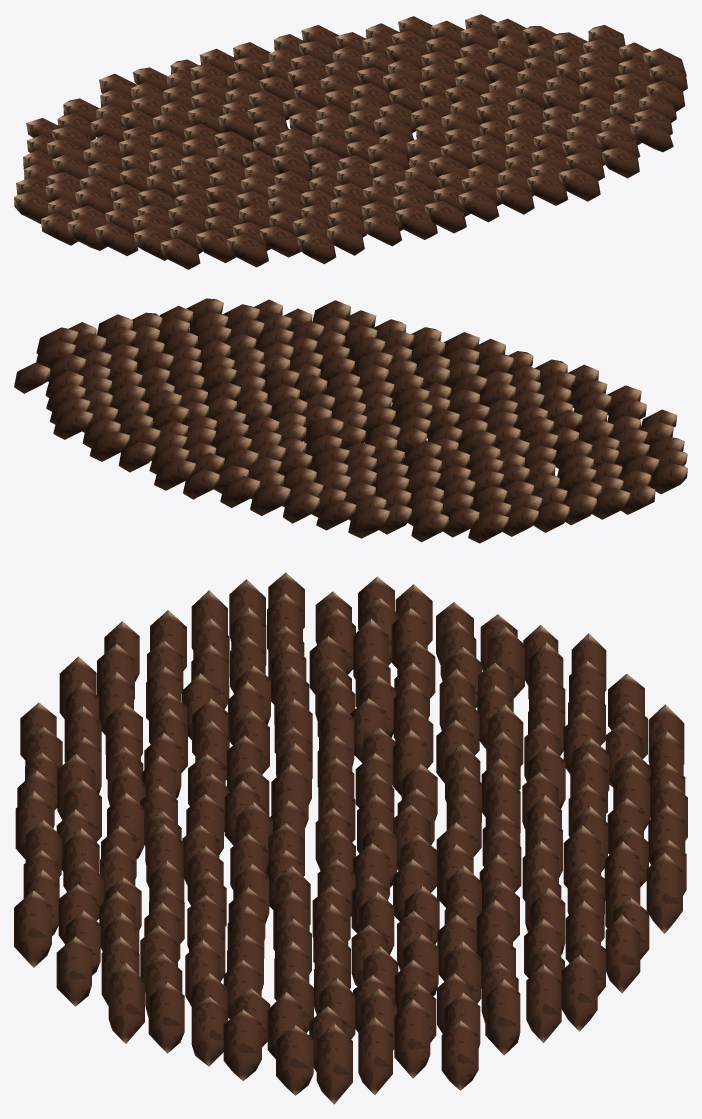
File: brood_clown_eggs_dark.glb
3 views of the same model, one above another, from view 1: azimuth 30°, elevation 25°; view 2: azimuth 150°, elevation 25°; view 3: azimuth 270°, elevation 25° (orthographic). The views are drawn at different scales.
Parts seen in each view (by area): view 1: Body; view 2: Body; view 3: Body.
Boxes of the visible parts, x1,y1,x2,y2 form: Body: (14,14,687,269); Body: (14,298,687,543); Body: (14,572,687,1104).
Bounding box in the file's own units: 0.9851 × 0.0515 × 0.5767.
1 material, 1 textured.
